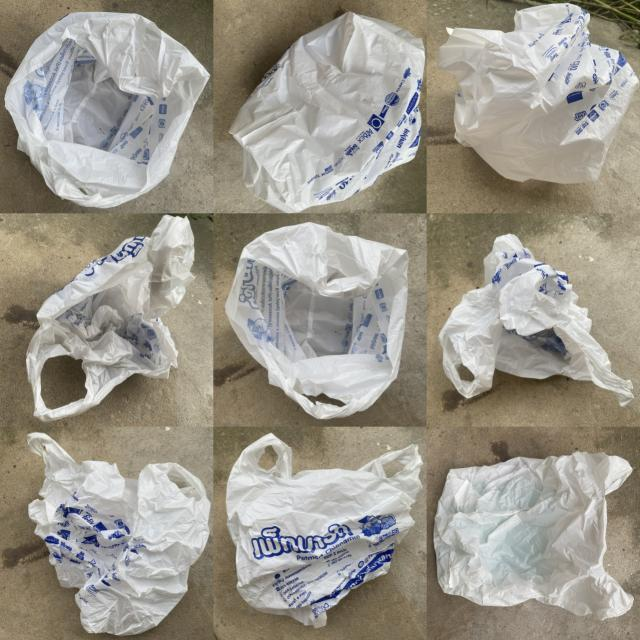Single-layer Plastic: (5, 12, 209, 207), (230, 12, 425, 212), (226, 434, 422, 628), (28, 432, 210, 635), (225, 222, 409, 418), (438, 4, 638, 182), (26, 215, 194, 421), (439, 235, 634, 406), (434, 452, 631, 619)
